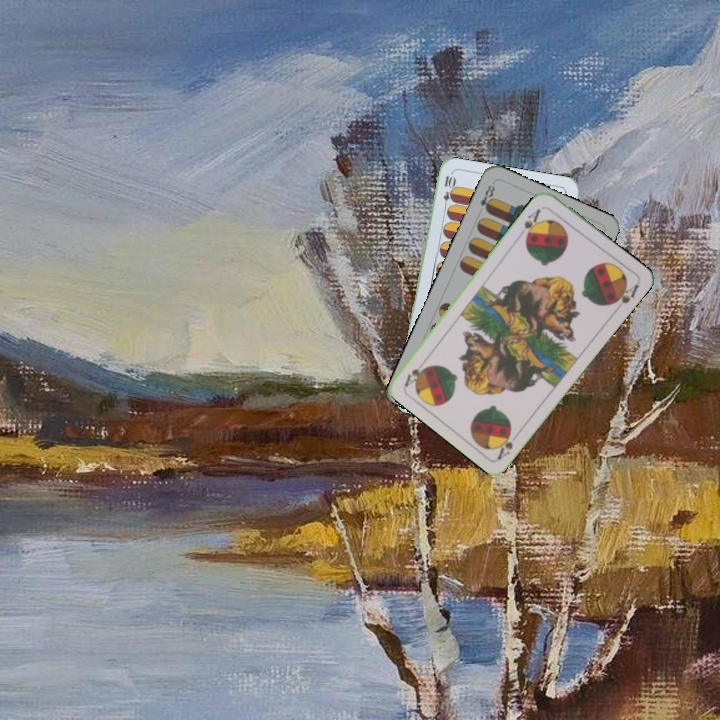E10: (439, 172, 456, 212)
E8: (476, 181, 498, 215)
SA: (493, 426, 523, 462), (520, 204, 544, 242)
